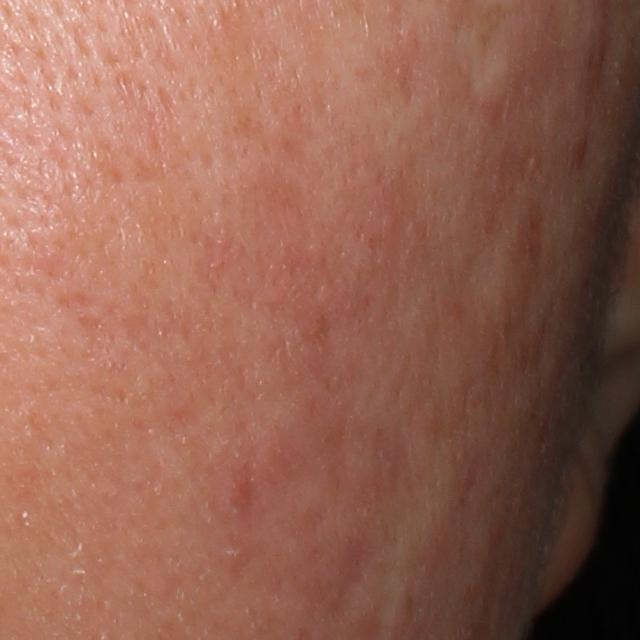papule: (223, 469, 261, 509)
